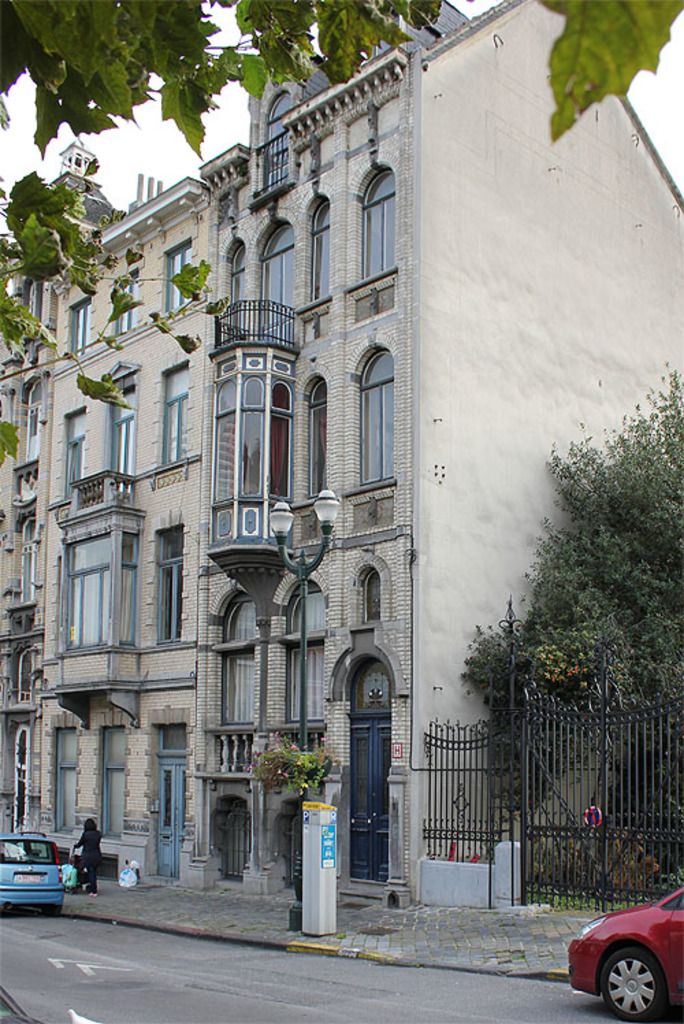Car: (566, 884, 684, 1014), (0, 829, 67, 917)
